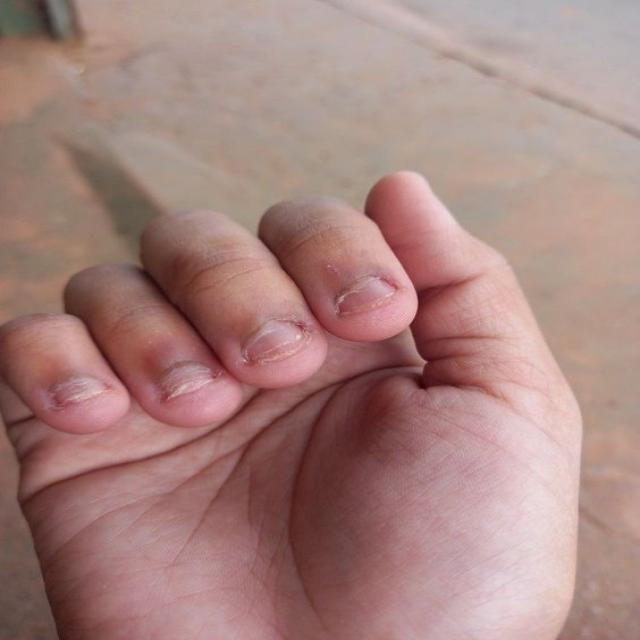Fingernail: (243, 322, 306, 363), (339, 278, 396, 315), (160, 364, 215, 400), (52, 376, 110, 406)
